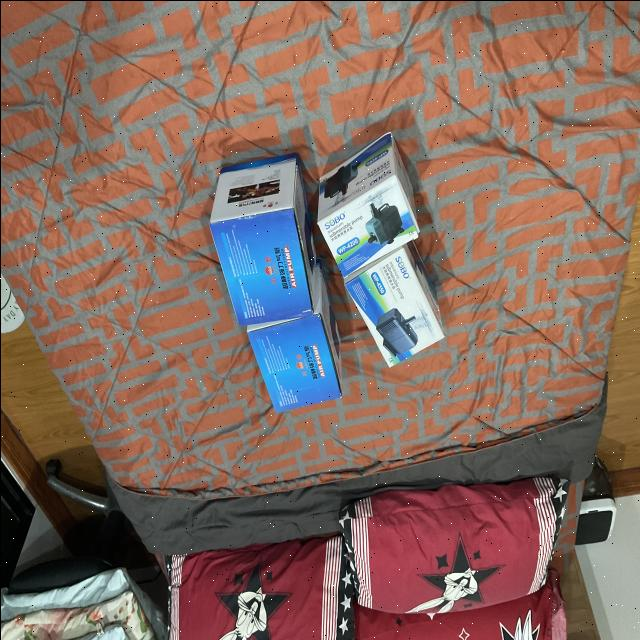SOBO_WP_4200: (310, 124, 422, 288), (338, 241, 454, 369)
YAMANO_LPP_20: (205, 134, 326, 332), (240, 259, 348, 422)
